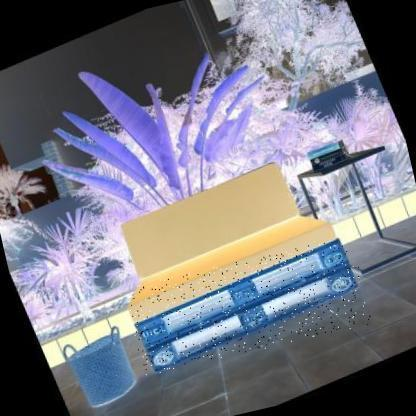pallet: (135, 234, 363, 374)
